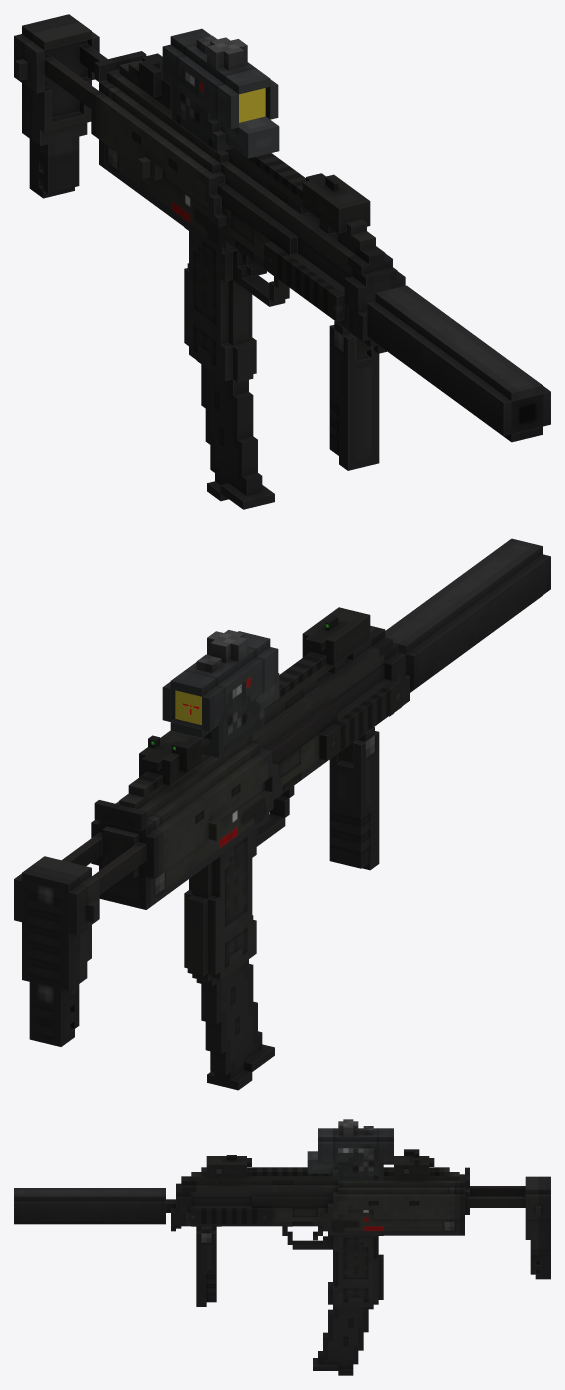
3 views of the same model, one above another, from view 1: azimuth 30°, elevation 25°; view 2: azimuth 150°, elevation 25°; view 3: azimuth 270°, elevation 25° (orthographic). The views are drawn at different scales.
Visible parts, largest first — view 1: HK_MP7, SILENCER_6X6, SCOPE_TASCO, HK_MP7_CLIP, HK_MP7_GRIP, SCOPE_EOTECH, HK_MP7_BOLT; view 2: HK_MP7, SILENCER_6X6, SCOPE_TASCO, HK_MP7_CLIP, HK_MP7_GRIP, SCOPE_EOTECH, HK_MP7_BOLT; view 3: HK_MP7, SILENCER_6X6, SCOPE_TASCO, HK_MP7_CLIP, SCOPE_EOTECH, HK_MP7_GRIP.
Part boxes in pixels (left/top/right/bottom): HK_MP7: left=14, top=14, right=405, bottom=382; SILENCER_6X6: left=367, top=285, right=550, bottom=442; SCOPE_TASCO: left=162, top=28, right=278, bottom=149; HK_MP7_CLIP: left=196, top=360, right=274, bottom=509; HK_MP7_GRIP: left=329, top=321, right=379, bottom=470; SCOPE_EOTECH: left=172, top=68, right=279, bottom=158; HK_MP7_BOLT: left=94, top=51, right=146, bottom=82; HK_MP7: left=14, top=607, right=409, bottom=1046; SILENCER_6X6: left=385, top=538, right=550, bottom=692; SCOPE_TASCO: left=162, top=630, right=278, bottom=753; HK_MP7_CLIP: left=196, top=959, right=274, bottom=1090; HK_MP7_GRIP: left=329, top=727, right=379, bottom=870; SCOPE_EOTECH: left=202, top=673, right=279, bottom=757; HK_MP7_BOLT: left=94, top=800, right=146, bottom=830; HK_MP7: left=166, top=1149, right=550, bottom=1306; SILENCER_6X6: left=14, top=1188, right=165, bottom=1224; SCOPE_TASCO: left=318, top=1119, right=393, bottom=1180; HK_MP7_CLIP: left=313, top=1307, right=373, bottom=1375; SCOPE_EOTECH: left=307, top=1148, right=383, bottom=1180; HK_MP7_GRIP: left=196, top=1226, right=216, bottom=1306.
Bounding box in the file's own units: 0.0984 × 0.5315 × 1.04.
Materials: 6 (6 with a texture image).
